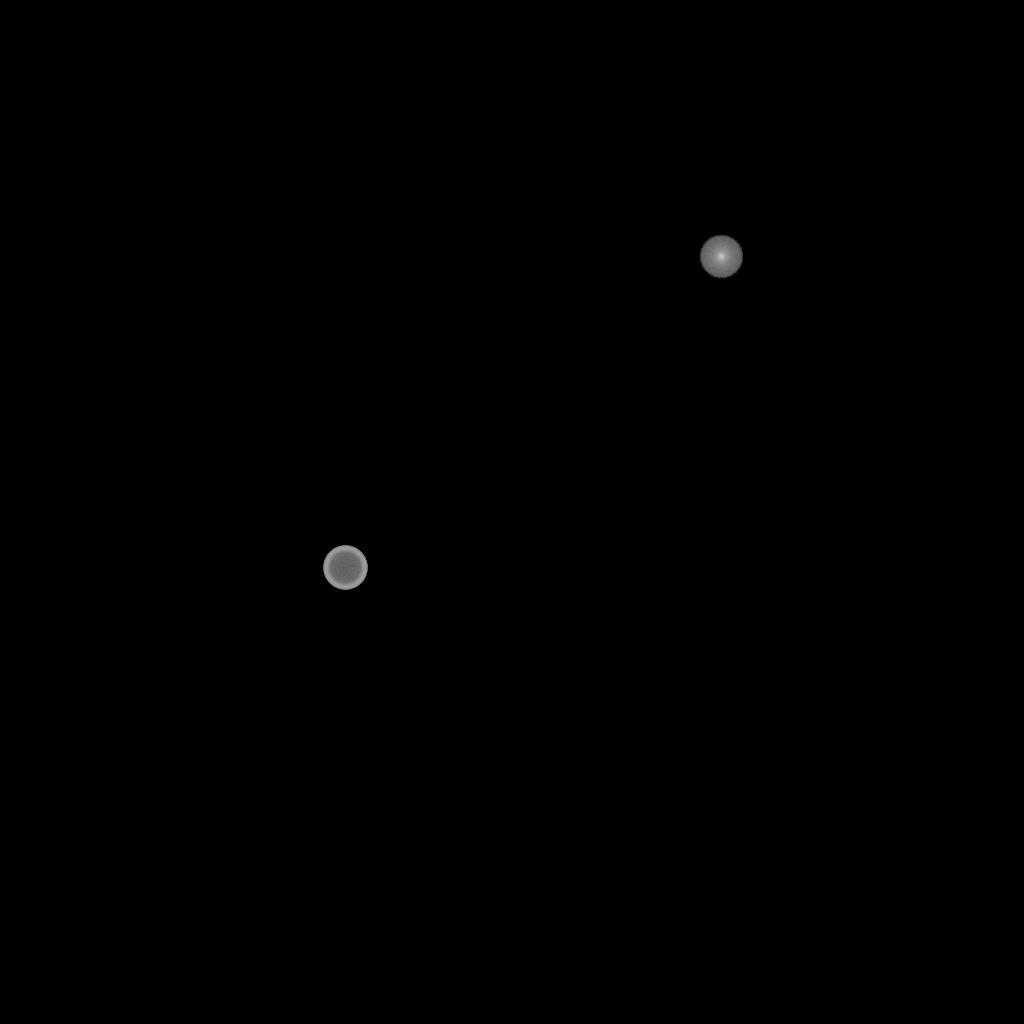depth:-70: (323, 546, 367, 590)
depth:10: (699, 235, 743, 279)
